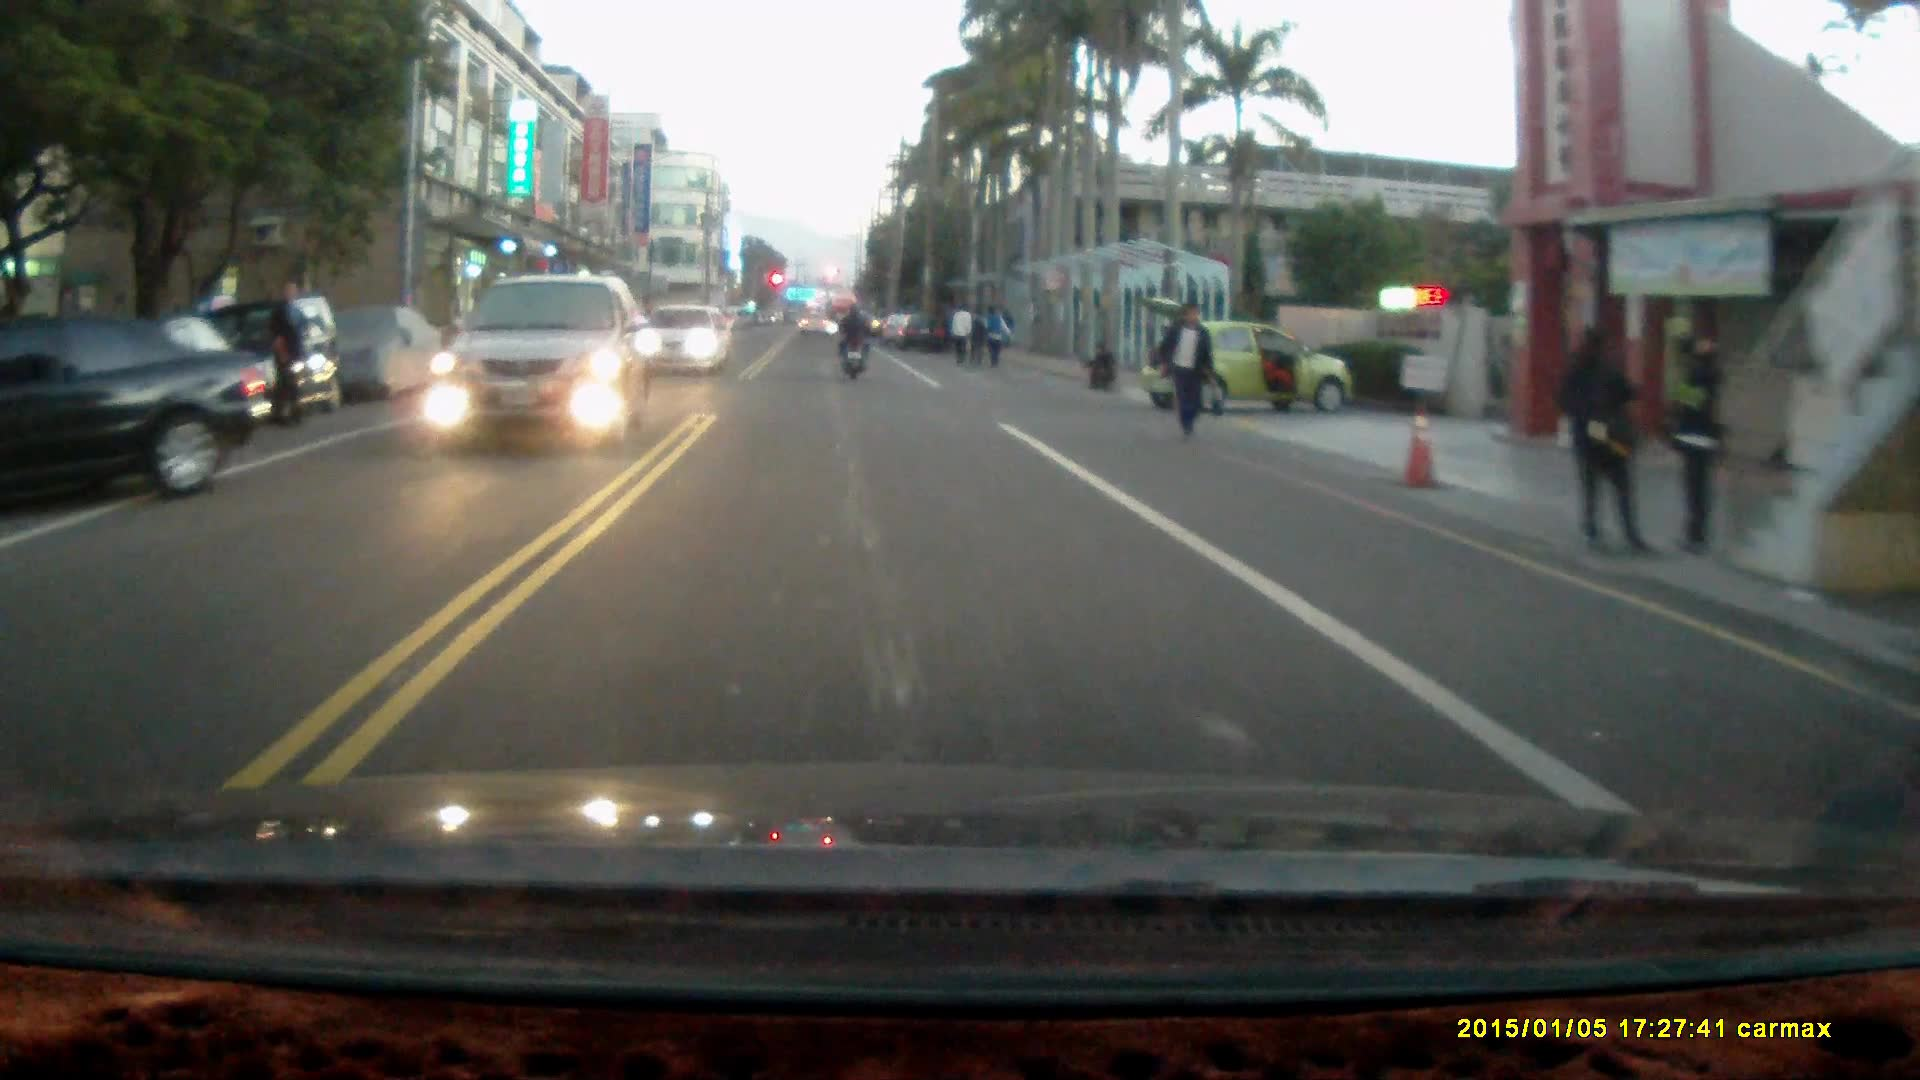pedestrian: (1549, 316, 1651, 555), (1666, 322, 1724, 553), (1157, 297, 1216, 442), (982, 300, 1008, 368), (1085, 338, 1117, 389), (949, 298, 971, 367), (968, 301, 988, 363)
rider: (832, 299, 872, 380)
vehicle: (0, 307, 276, 523), (432, 270, 657, 443), (1137, 294, 1364, 411), (184, 298, 342, 423), (639, 304, 735, 378)
